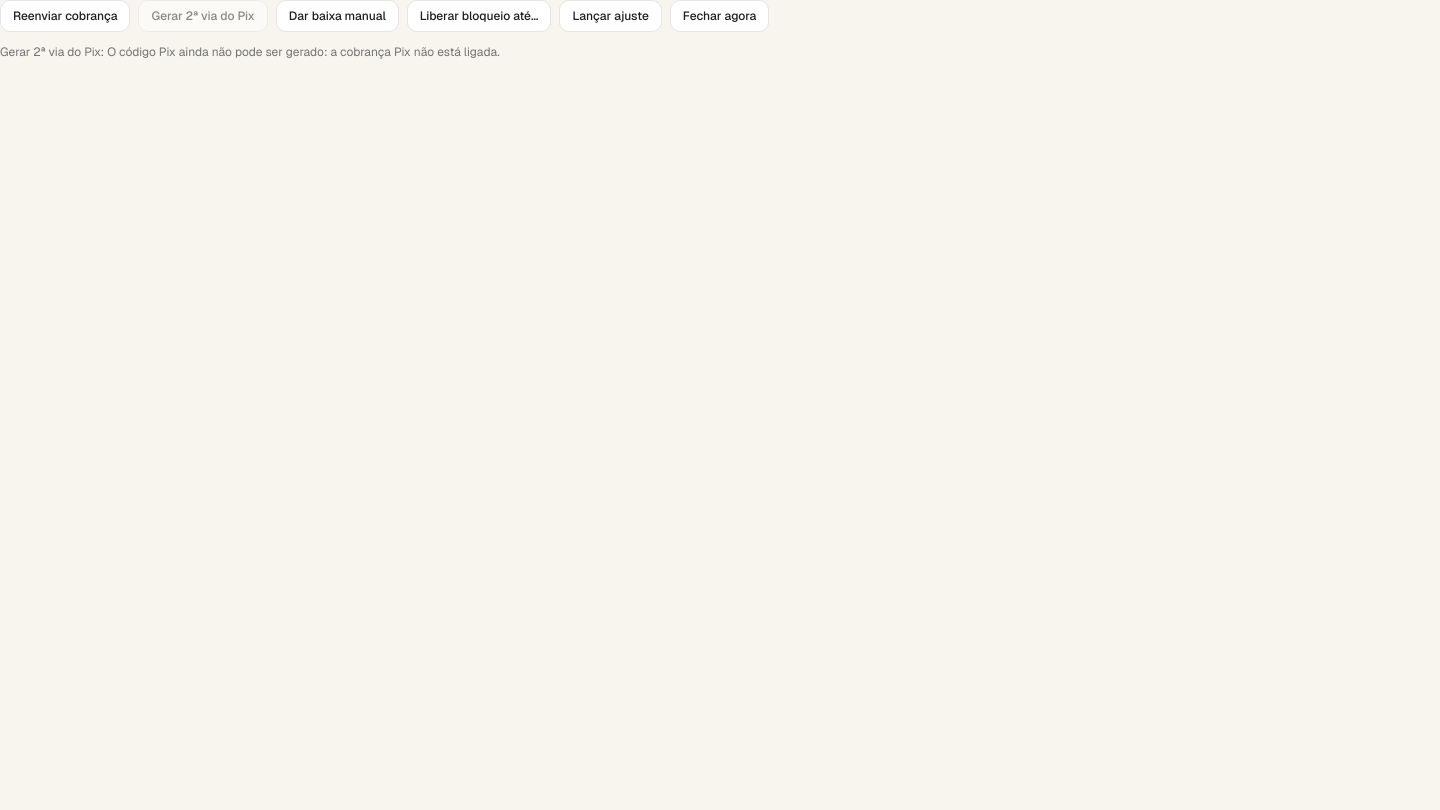
Test: Ações da fatura › motivo < 5: botão desabilitado com o porquê embaixo do campo
Click the button "Reenviar cobrança" at (65, 16), box [0, 0, 130, 32]
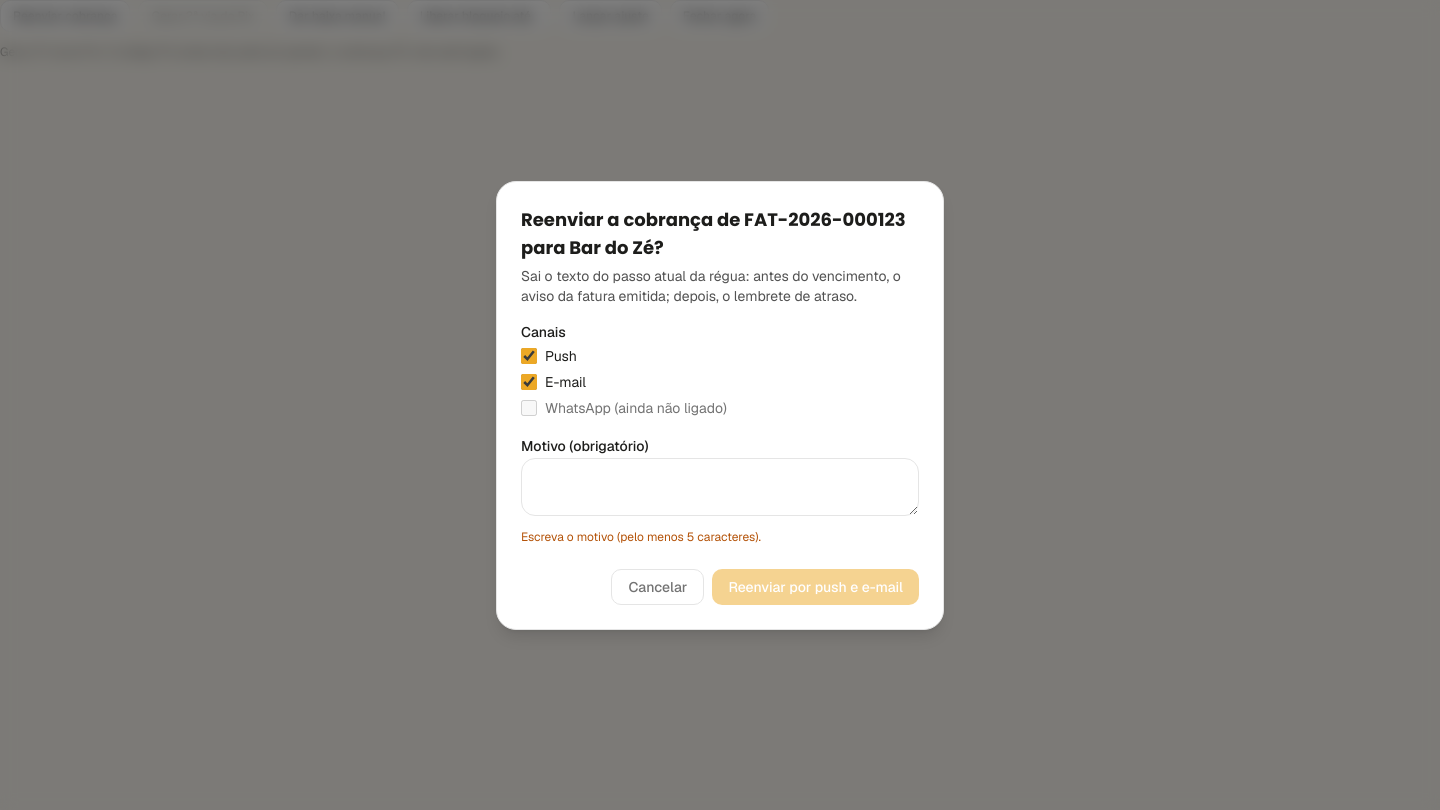
Result: the button "Reenviar por push e e-mail" is disabled at [712, 568, 919, 604]
Type "abcd" into the text box labelled "Motivo (obrigatório)" at (720, 486), box [521, 458, 919, 516]
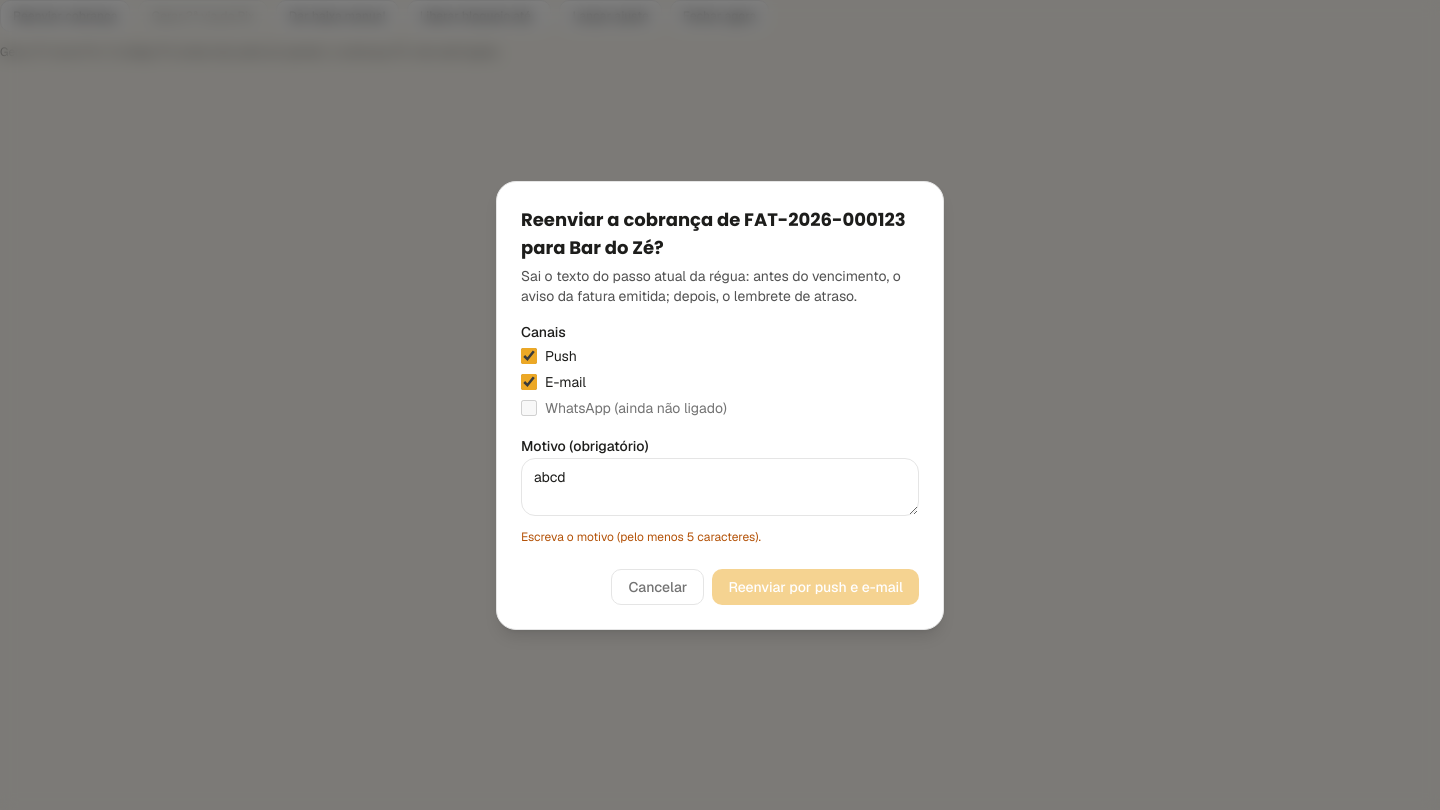
Result: the button "Reenviar por push e e-mail" is disabled at [712, 568, 919, 604]
Replace the text in the text box labelled "Motivo (obrigatório)" with "abcde" at (720, 486), box [521, 458, 919, 516]
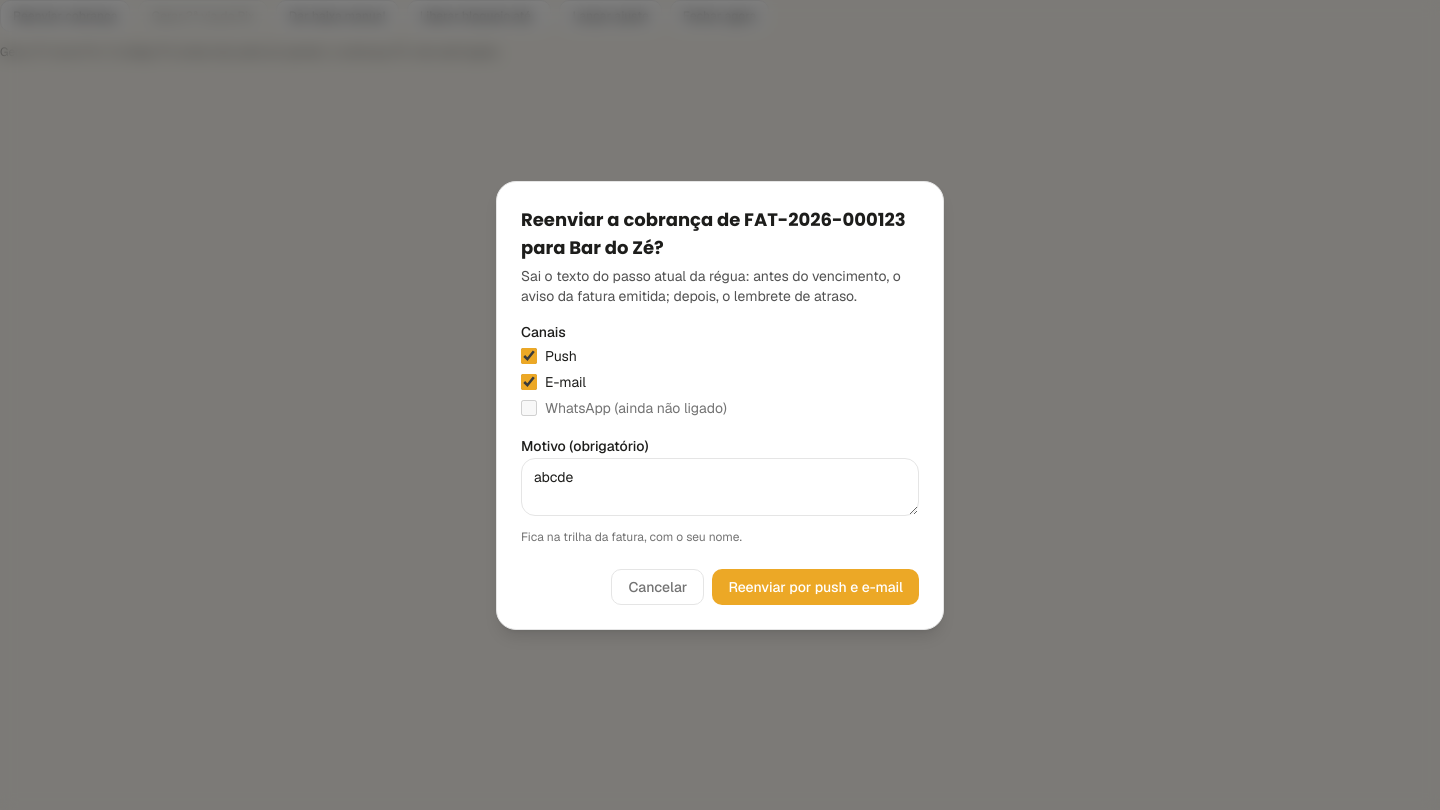
Result: the button "Reenviar por push e e-mail" is enabled at [712, 568, 919, 604]
Result: the text "Escreva o motivo (pelo menos 5 caracteres)." is gone
